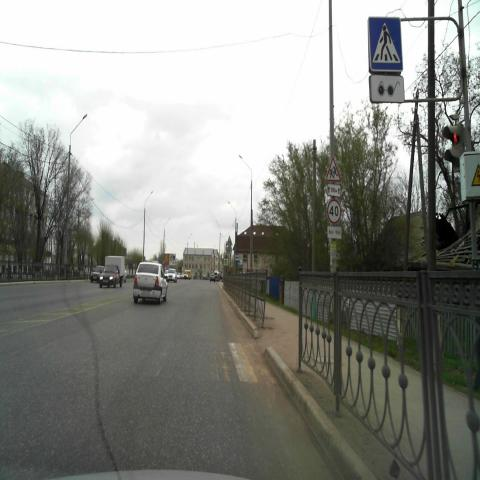1_23: (326, 157, 340, 181)
3_24: (328, 200, 340, 223)
5_19_1: (367, 11, 403, 73)
8_15: (370, 76, 404, 102)
8_2_1: (327, 183, 340, 197)
